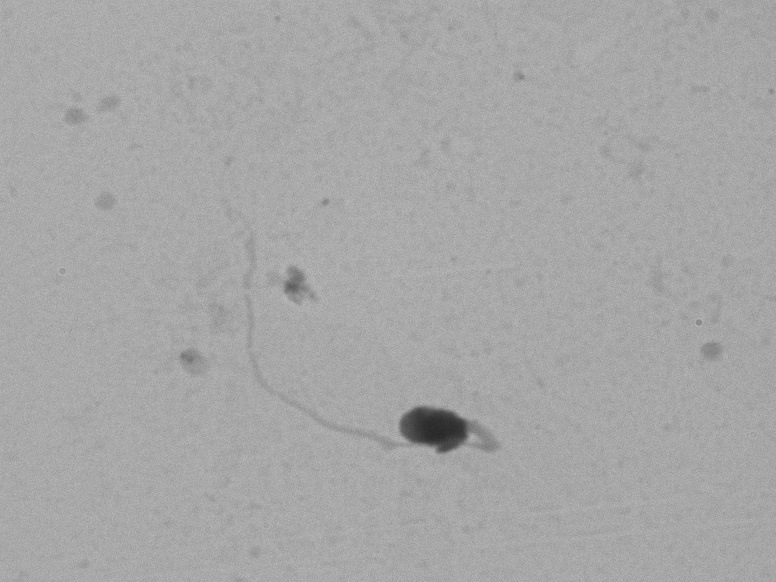Abnormal: (209, 213, 520, 512)
